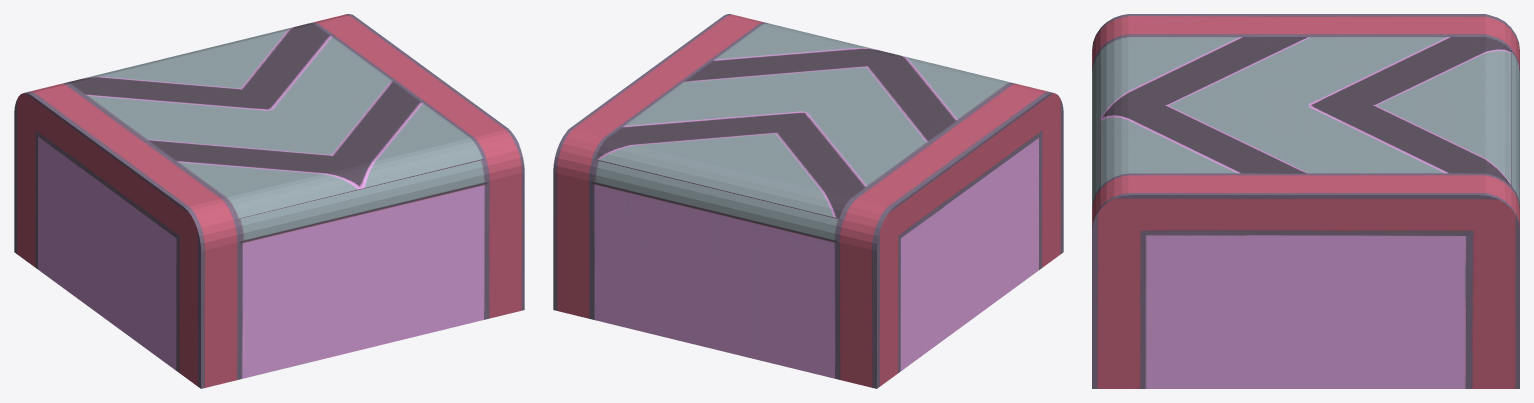
File: conveyor.glb
The picture shows the model from 3 angles, left to right: view 1: azimuth 30°, elevation 25°; view 2: azimuth 150°, elevation 25°; view 3: azimuth 270°, elevation 25°; orthographic projection. The views are drawn at different scales.
Visible parts, largest first — view 1: Cube.001, Plane.001; view 2: Cube.001, Plane.001; view 3: Cube.001, Plane.001.
Boxes of the visible parts, bbox=[...] form: Cube.001: bbox=[14, 93, 524, 388]; Plane.001: bbox=[18, 14, 520, 228]; Cube.001: bbox=[553, 93, 1063, 388]; Plane.001: bbox=[557, 14, 1058, 228]; Cube.001: bbox=[1092, 28, 1519, 388]; Plane.001: bbox=[1100, 14, 1511, 207].
Bounding box in the file's own units: 2 × 1 × 2.
2 materials, 2 textured.
